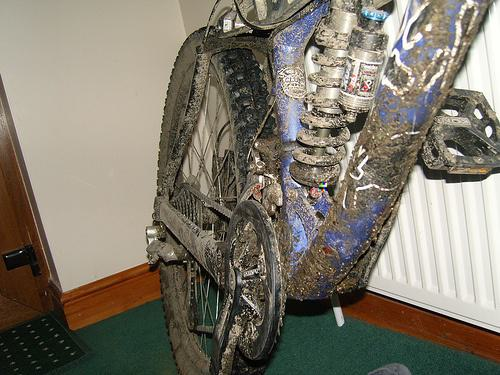car: (147, 1, 500, 374)
